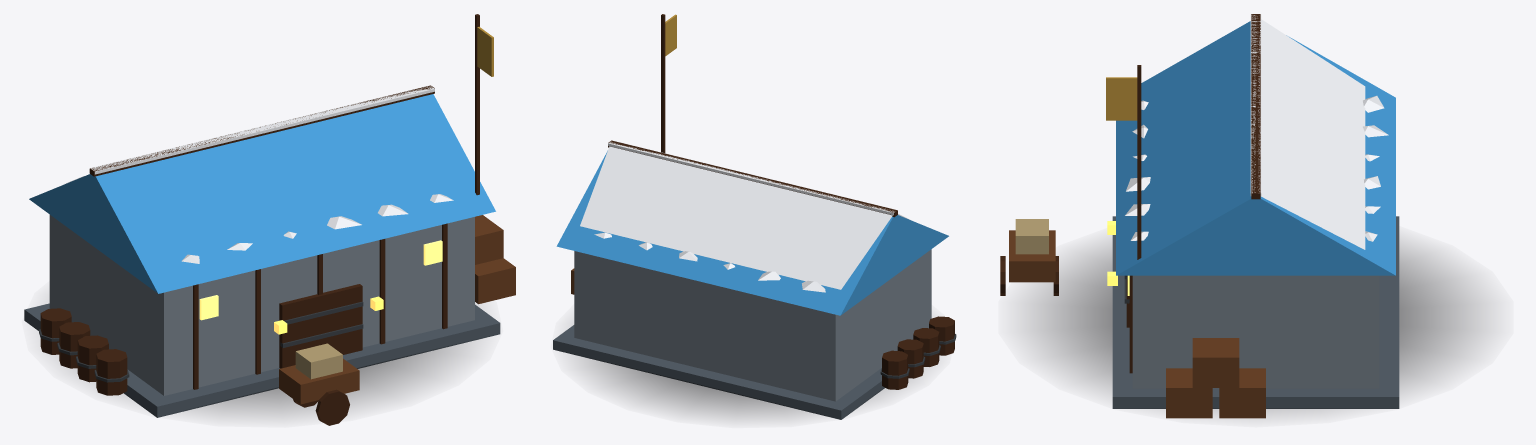
File: war_depot_t2.glb
The picture shows the model from 3 angles, left to right: view 1: azimuth 30°, elevation 25°; view 2: azimuth 150°, elevation 25°; view 3: azimuth 270°, elevation 25°; orthographic projection. The views are drawn at different scales.
Visible parts, largest first — view 1: war_depot_t2; view 2: war_depot_t2; view 3: war_depot_t2.
Boxes of the visible parts, x1=… form: war_depot_t2: x1=24, y1=14, x2=515, y2=425; war_depot_t2: x1=553, y1=14, x2=956, y2=419; war_depot_t2: x1=1000, y1=14, x2=1481, y2=418.
Bounding box in the file's own units: 8.04 × 5.58 × 7.96.
